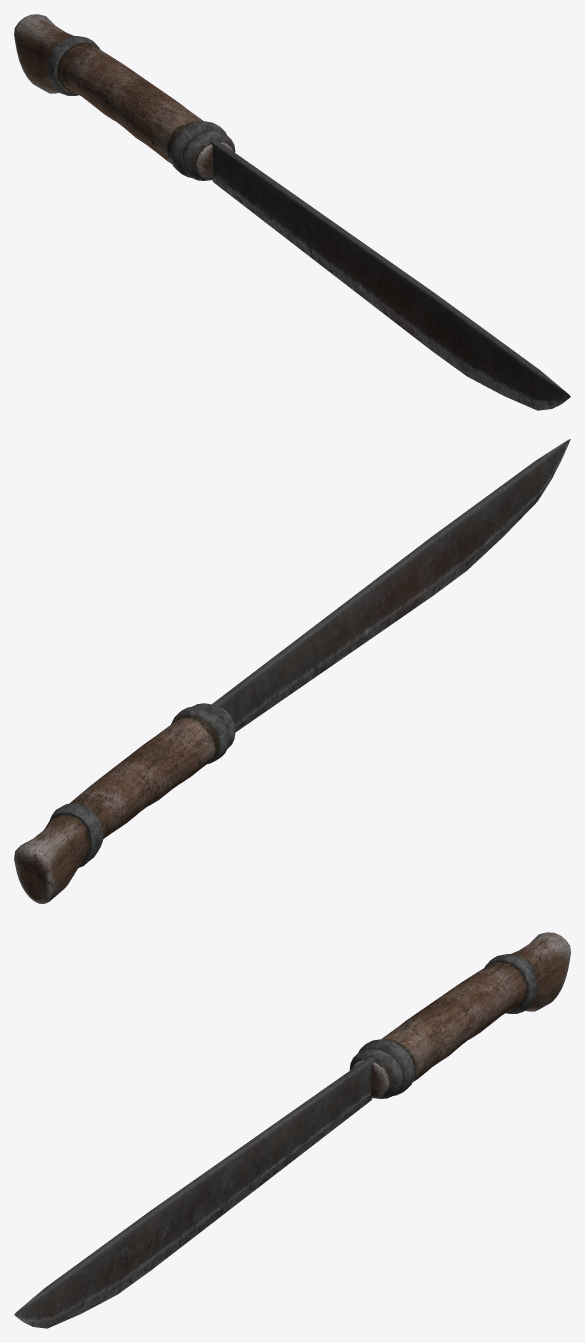
File: melee_machete.glb
The picture shows the model from 3 angles, top to bottom: view 1: azimuth 30°, elevation 25°; view 2: azimuth 150°, elevation 25°; view 3: azimuth 330°, elevation 25°; orthographic projection.
Visible parts, largest first — view 1: body; view 2: body; view 3: body.
Part boxes in pixels (x1=…): body: x1=14, y1=14, x2=570, y2=410; body: x1=14, y1=439, x2=570, y2=903; body: x1=14, y1=932, x2=570, y2=1328.
Bounding box in the file's own units: 0.0444 × 0.0611 × 0.7548.
Materials: 1 (1 with a texture image).
